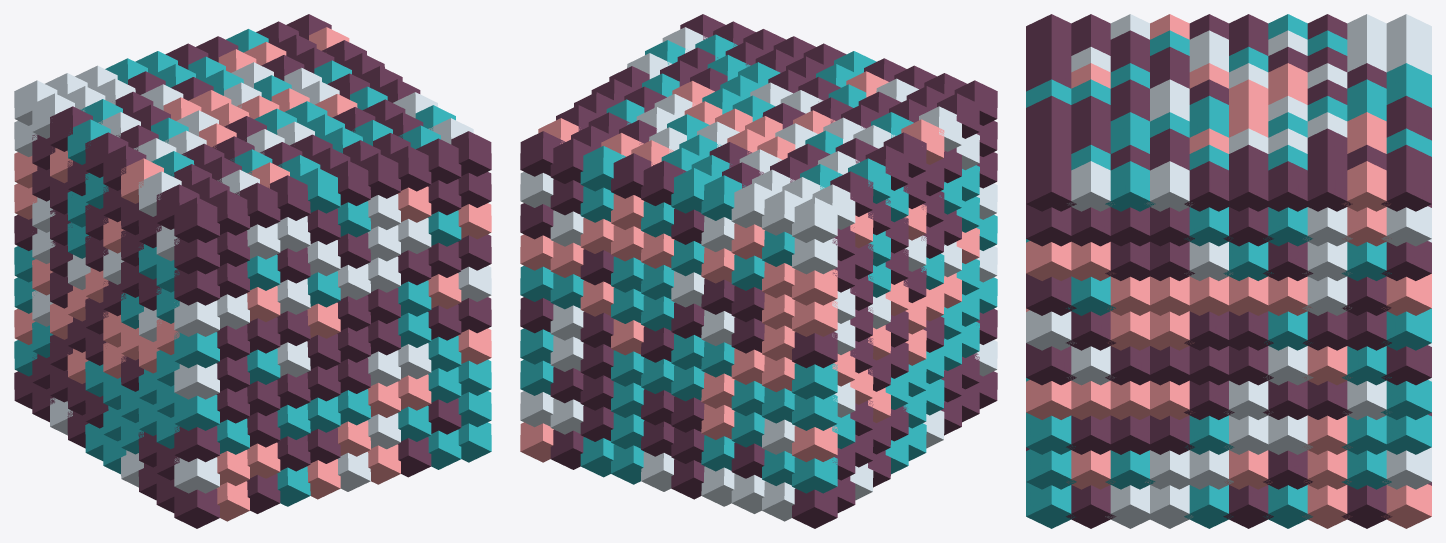
3 views of the same model, side by side, from view 1: azimuth 30°, elevation 25°; view 2: azimuth 150°, elevation 25°; view 3: azimuth 270°, elevation 25° (orthographic). The views are drawn at different scales.
Parts seen in each view (by area): view 1: main_object; view 2: main_object; view 3: main_object.
Part boxes in pixels (left/top/right/bottom): main_object: left=14, top=14, right=491, bottom=528; main_object: left=520, top=14, right=997, bottom=528; main_object: left=1026, top=14, right=1431, bottom=528.
Bounding box in the file's own units: 19 × 19 × 19.
